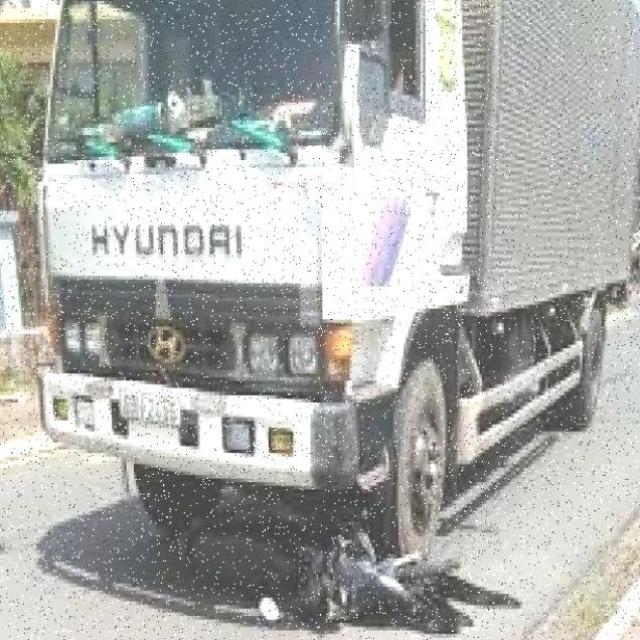accident: (253, 413, 481, 640)
